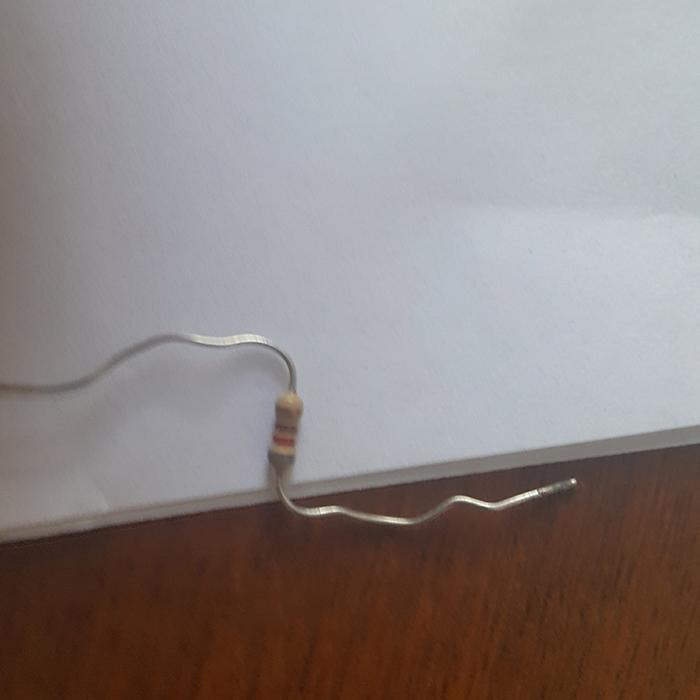resistor: (267, 389, 304, 466)
